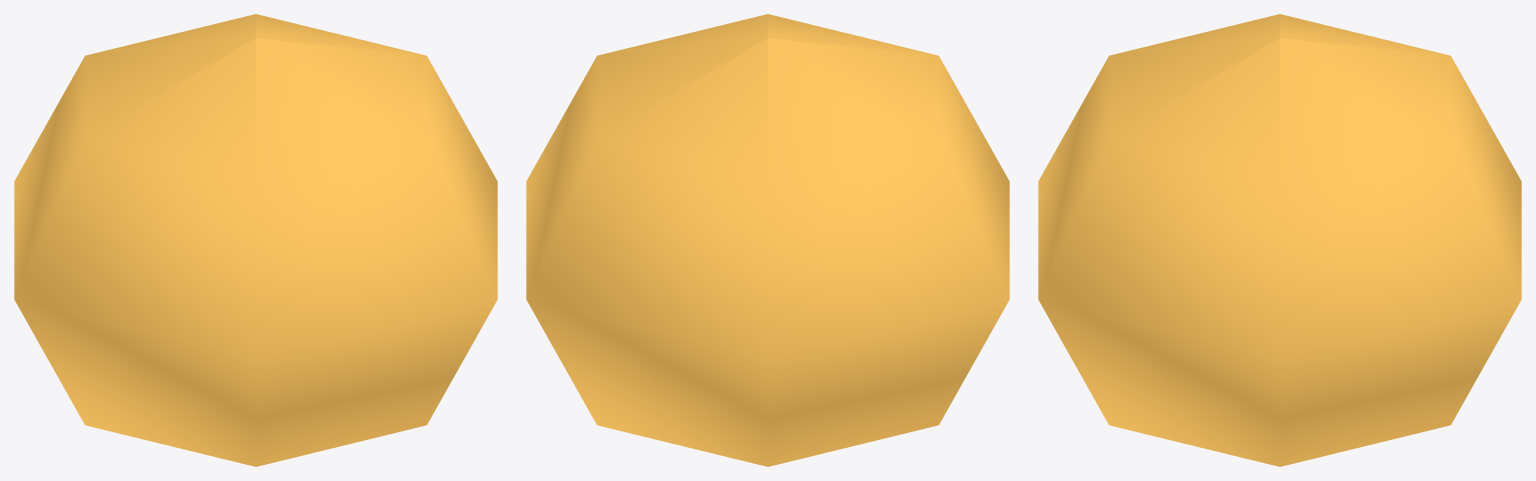
Rendered from crumb.glb.
3 renders of one model, left to right at view 1: azimuth 30°, elevation 25°; view 2: azimuth 150°, elevation 25°; view 3: azimuth 270°, elevation 25°, orthographic.
Visible parts, largest first — view 1: crumb; view 2: crumb; view 3: crumb.
Boxes of the visible parts, x1=… form: crumb: x1=14, y1=14, x2=497, y2=466; crumb: x1=526, y1=14, x2=1009, y2=466; crumb: x1=1038, y1=14, x2=1521, y2=466.
Size of the model in its own units: 0.014 by 0.0112 by 0.0121.
